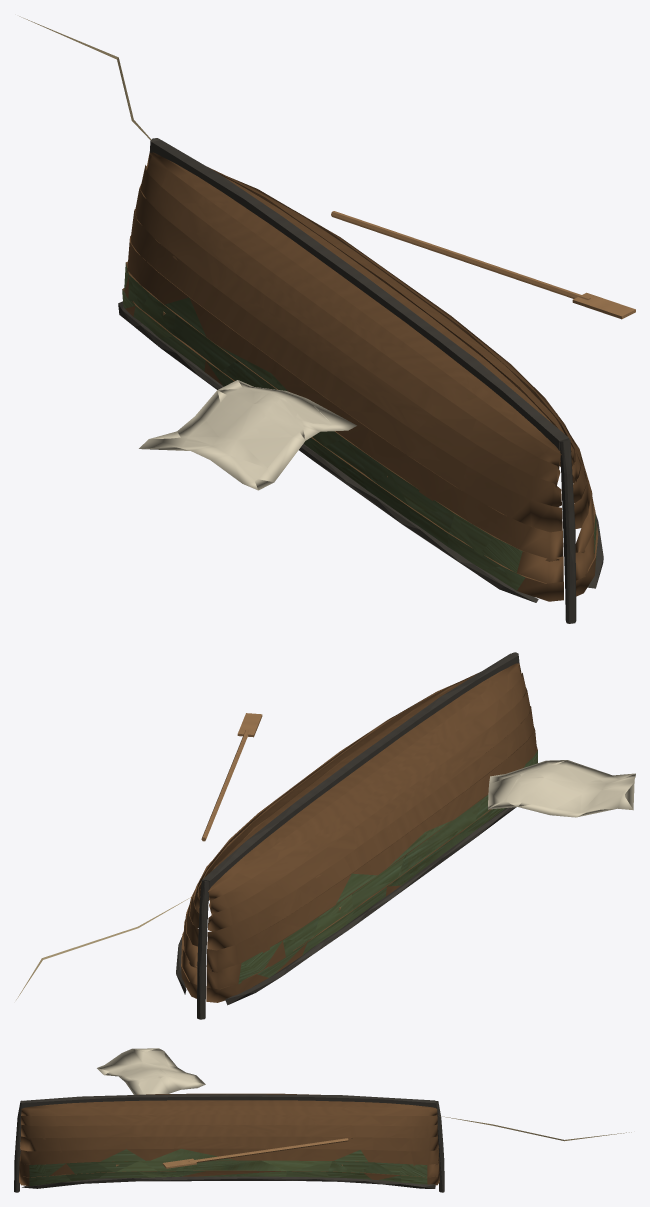
File: ship_lod2.glb
3 renders of one model, top to bottom at view 1: azimuth 30°, elevation 25°; view 2: azimuth 150°, elevation 25°; view 3: azimuth 270°, elevation 25°, orthographic. The views are drawn at different scales.
Visible parts, largest first — view 1: lod2_strake_starboard_05, lod2_strake_starboard_04, lod2_strake_starboard_03, lod2_strake_starboard_06, lod2_floating_sailcloth, lod2_strake_starboard_02, lod2_strake_starboard_07, lod2_strake_starboard_01, lod2_keel, lod2_strake_starboard_08, lod2_strake_port_02, lod2_gunwale_starboard (+5 smaller); view 2: lod2_strake_starboard_05, lod2_strake_starboard_04, lod2_strake_starboard_06, lod2_strake_starboard_03, lod2_floating_sailcloth, lod2_strake_starboard_02, lod2_strake_starboard_07, lod2_strake_starboard_01, lod2_keel, lod2_strake_starboard_08, lod2_gunwale_starboard, lod2_strake_port_02 (+5 smaller); view 3: lod2_strake_port_05, lod2_strake_port_06, lod2_strake_port_04, lod2_strake_port_07, lod2_strake_port_03, lod2_strake_port_02, lod2_floating_sailcloth, lod2_strake_port_08, lod2_keel, lod2_strake_port_01, lod2_gunwale_port, lod2_floating_oar_shaft (+3 smaller).
Boxes of the visible parts, <box> form: lod2_strake_starboard_05: <box>131,209,562,532</box>; lod2_strake_starboard_04: <box>135,184,561,507</box>; lod2_strake_starboard_03: <box>140,165,560,487</box>; lod2_strake_starboard_06: <box>127,236,563,561</box>; lod2_floating_sailcloth: <box>139,380,356,490</box>; lod2_strake_starboard_02: <box>146,154,560,468</box>; lod2_strake_starboard_07: <box>124,261,563,583</box>; lod2_strake_starboard_01: <box>149,152,561,455</box>; lod2_keel: <box>151,140,569,450</box>; lod2_strake_starboard_08: <box>122,288,563,601</box>; lod2_strake_port_02: <box>208,167,574,464</box>; lod2_gunwale_starboard: <box>118,301,538,602</box>; lod2_strake_starboard_05: <box>207,706,534,950</box>; lod2_strake_starboard_04: <box>208,688,530,931</box>; lod2_strake_starboard_06: <box>206,726,536,972</box>; lod2_strake_starboard_03: <box>209,673,526,916</box>; lod2_floating_sailcloth: <box>488,760,635,817</box>; lod2_strake_starboard_02: <box>209,664,521,902</box>; lod2_strake_starboard_07: <box>206,746,537,989</box>; lod2_strake_starboard_01: <box>208,663,519,892</box>; lod2_keel: <box>202,653,517,888</box>; lod2_strake_starboard_08: <box>206,808,505,1002</box>; lod2_gunwale_starboard: <box>225,807,516,1005</box>; lod2_strake_port_02: <box>198,672,479,898</box>; lod2_strake_port_05: <box>20,1136,438,1152</box>; lod2_strake_port_06: <box>19,1148,439,1165</box>; lod2_strake_port_04: <box>21,1125,437,1139</box>; lod2_strake_port_07: <box>19,1160,439,1177</box>; lod2_strake_port_03: <box>21,1114,437,1126</box>; lod2_strake_port_02: <box>21,1106,437,1116</box>; lod2_floating_sailcloth: <box>97,1048,205,1094</box>; lod2_strake_port_08: <box>19,1170,439,1186</box>; lod2_keel: <box>23,1094,435,1107</box>; lod2_strake_port_01: <box>21,1100,437,1109</box>; lod2_gunwale_port: <box>22,1176,435,1188</box>; lod2_floating_oar_shaft: <box>189,1138,348,1162</box>.
Size of the model in its own units: 4.53 by 1.63 by 9.56.
6 materials, 6 textured.
